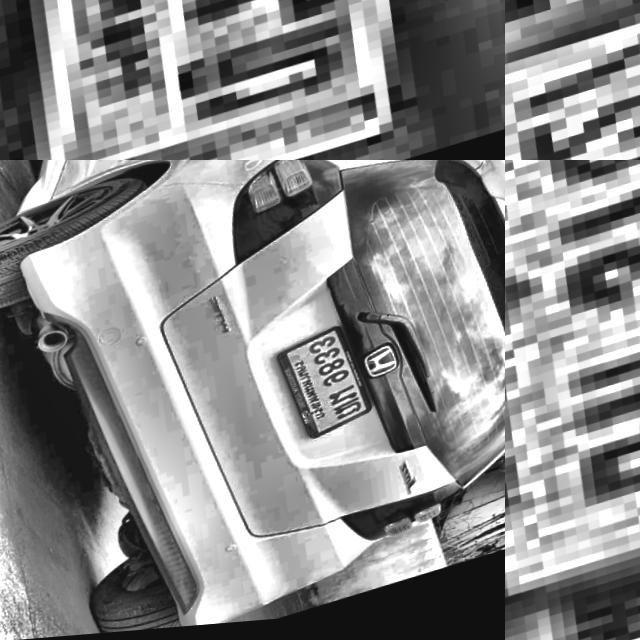license-plate: (0, 0, 505, 160), (505, 160, 640, 640), (505, 0, 640, 160), (271, 321, 392, 455)
